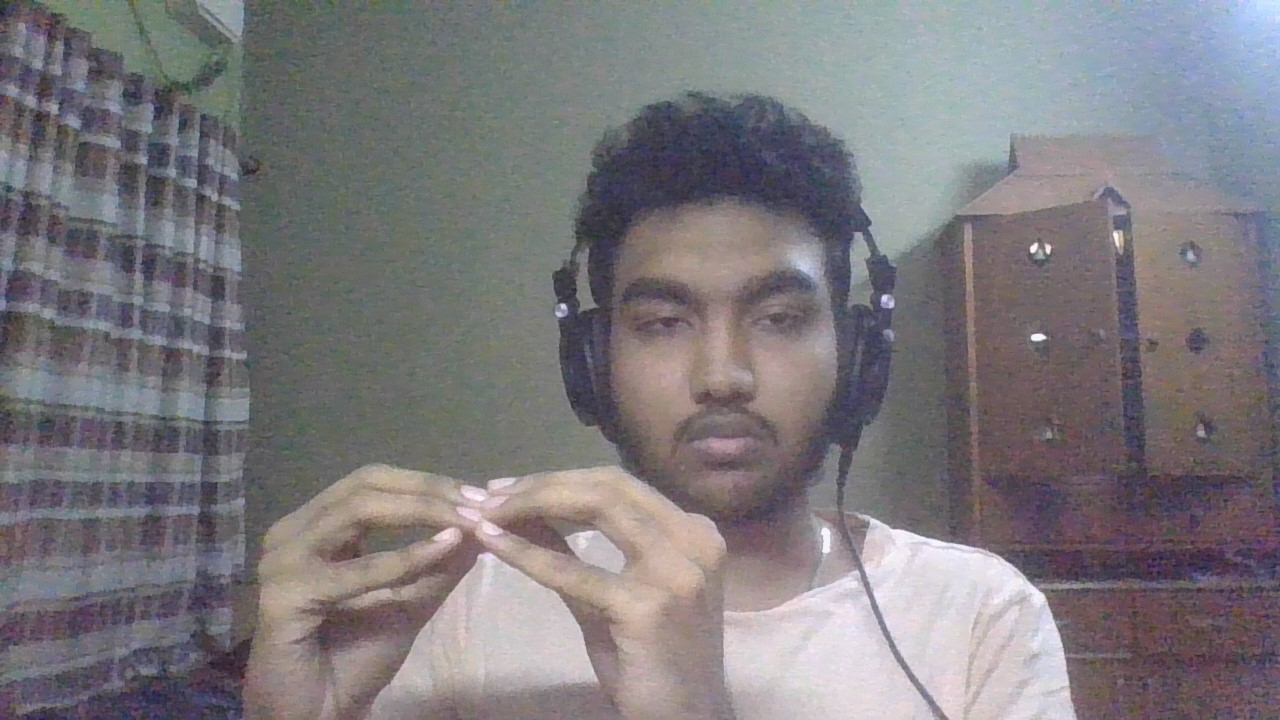More: (235, 459, 740, 720)
